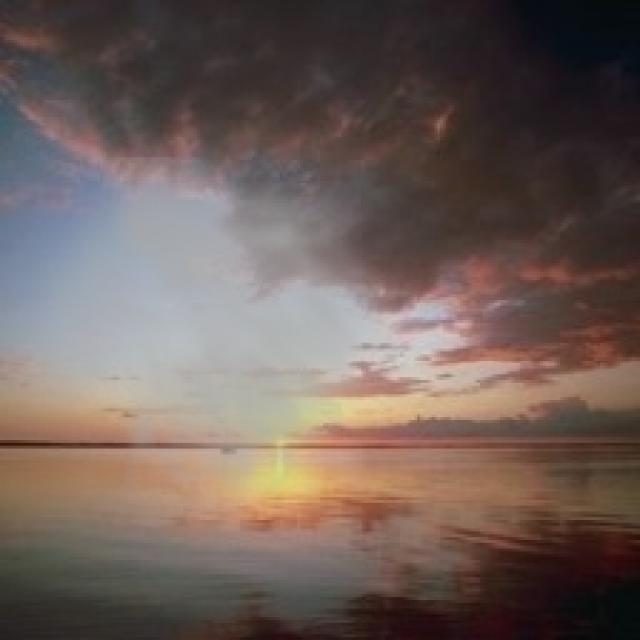Smoke: (20, 157, 423, 534)
